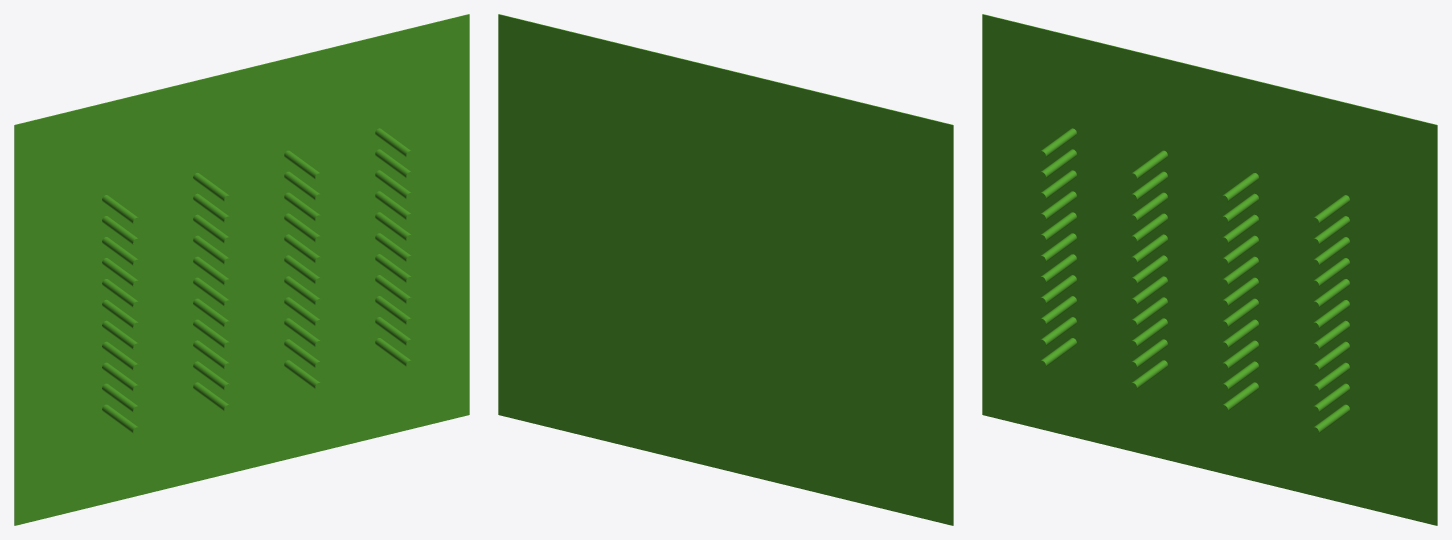
File: orchard.dae
3 views of the same model, side by side, from view 1: azimuth 30°, elevation 25°; view 2: azimuth 150°, elevation 25°; view 3: azimuth 330°, elevation 25° (orthographic).
Size of the model in its own units: 24.99 by 21.03 by 3.
